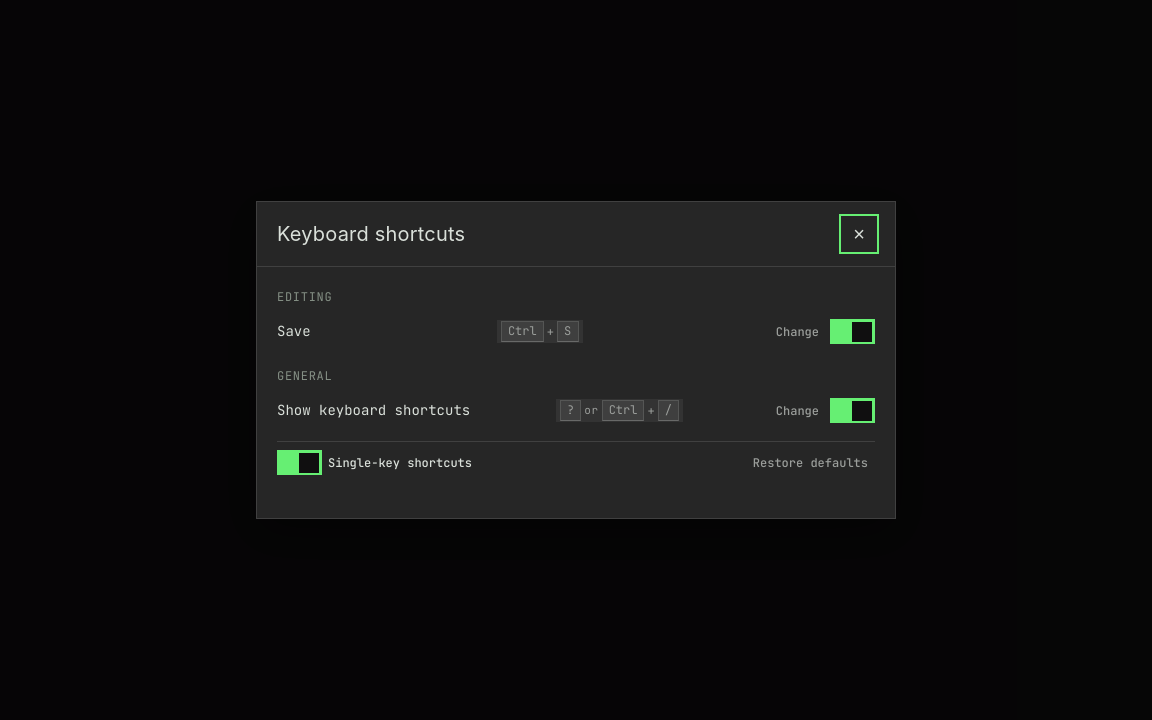
Test case: ShortcutsHelp — editable mode (DS-0141) › modifier-only keydowns are a chord in progress — recording stays live
Click the button "Change" in the row of "Save": click(797, 332) x1=769 y1=320 x2=826 y2=344
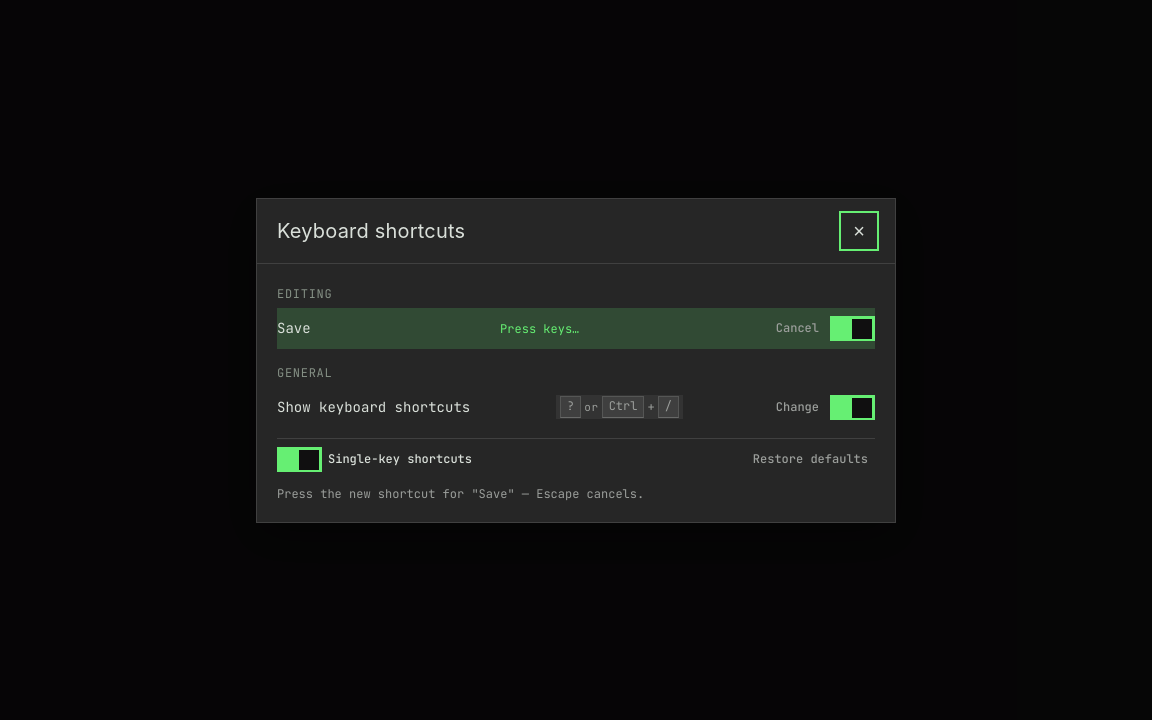
Result: the message with class "status" shows "Press the new shortcut" at x1=277 y1=486 x2=644 y2=502
